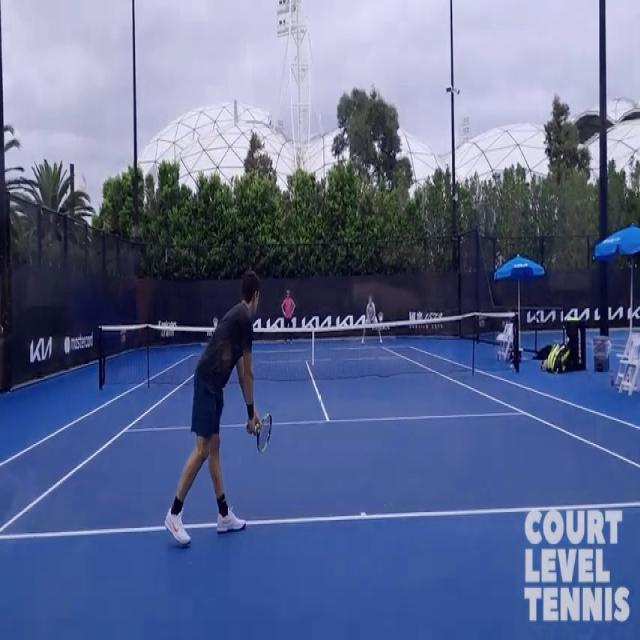serve_ready: (167, 268, 272, 553)
